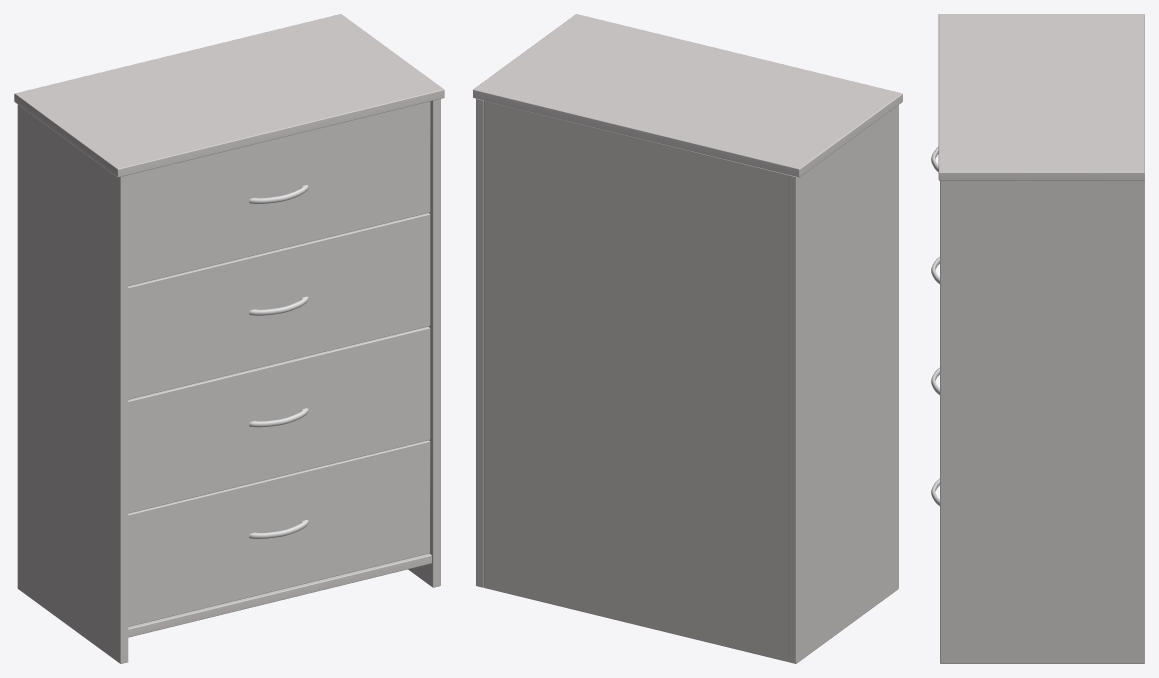
The model's file is B07PYKLXGB.glb.
3 renders of one model, left to right at view 1: azimuth 30°, elevation 25°; view 2: azimuth 150°, elevation 25°; view 3: azimuth 270°, elevation 25°, orthographic.
Parts seen in each view (by area): view 1: RootNode; view 2: RootNode; view 3: RootNode.
Part boxes in pixels (box(x1,y1,x2,y2)): RootNode: box(14, 14, 444, 663); RootNode: box(473, 14, 902, 663); RootNode: box(931, 14, 1144, 663).
Size of the model in its own units: 0.704 by 1.02 by 0.4007.
Materials: 1 (1 with a texture image).
